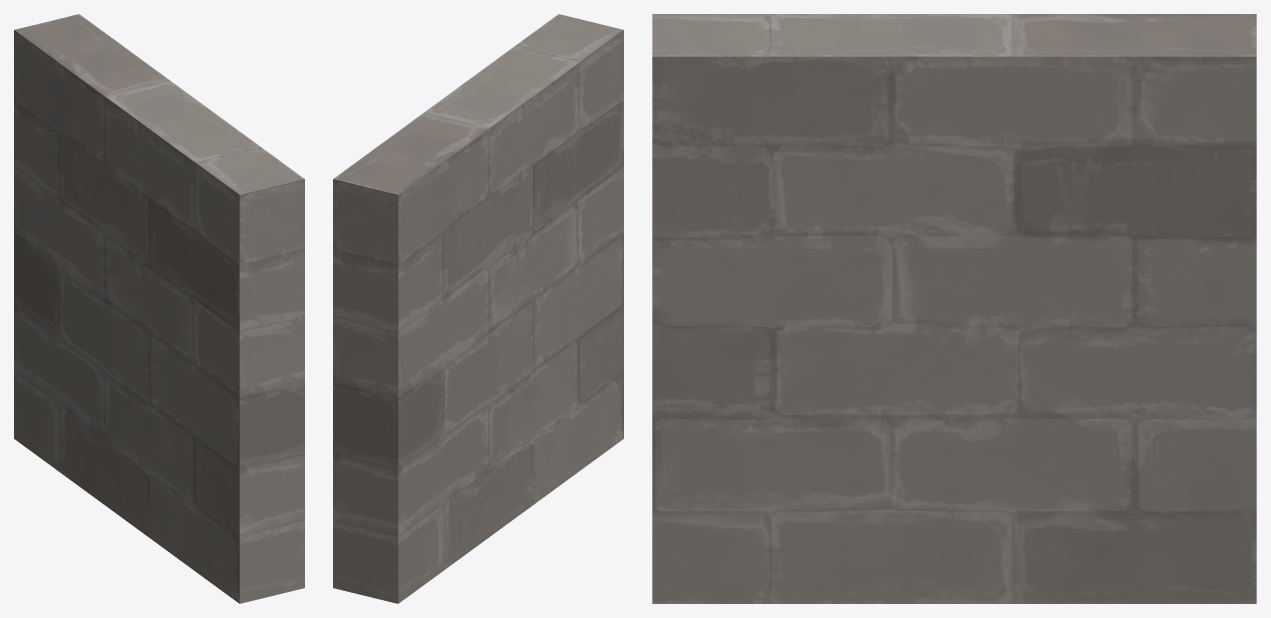
Rendered from SM_Wall_Bricks_3x3.fbx.
3 views of the same model, side by side, from view 1: azimuth 30°, elevation 25°; view 2: azimuth 150°, elevation 25°; view 3: azimuth 270°, elevation 25° (orthographic). The views are drawn at different scales.
Parts seen in each view (by area): view 1: SM_Wall_Bricks_3x3_LOD0; view 2: SM_Wall_Bricks_3x3_LOD0; view 3: SM_Wall_Bricks_3x3_LOD0.
Boxes of the visible parts, x1=… form: SM_Wall_Bricks_3x3_LOD0: x1=14, y1=14, x2=304, y2=603; SM_Wall_Bricks_3x3_LOD0: x1=333, y1=14, x2=623, y2=603; SM_Wall_Bricks_3x3_LOD0: x1=652, y1=14, x2=1256, y2=603.
Bounding box in the file's own units: 50 × 300 × 300.
1 material, 1 textured.
